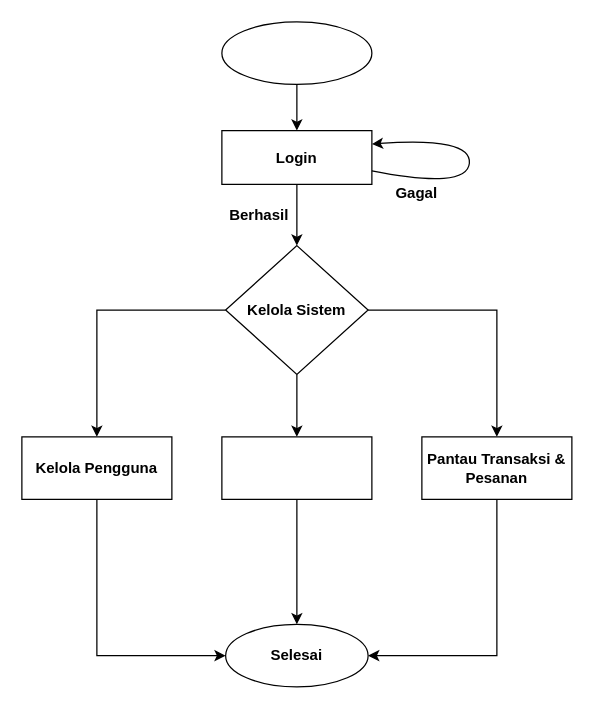
Image size: 594x709. Some labels were removed from this diagram. Here are the shapes that lost their labels. From the top down, the centre of each, then its label:
At (296,52): "Mulai".
At (296,467): "Verifikasi Jasa".
